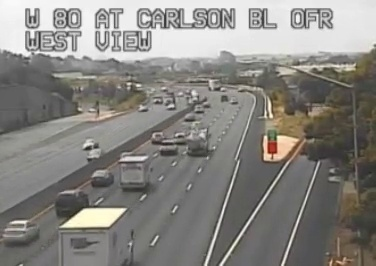car: (55, 190, 88, 215), (3, 220, 38, 243), (90, 170, 113, 185), (159, 139, 176, 153), (173, 132, 187, 145), (150, 131, 164, 143)
small-truck: (58, 206, 131, 266), (119, 155, 149, 186)
tank-truck: (187, 126, 210, 154)
